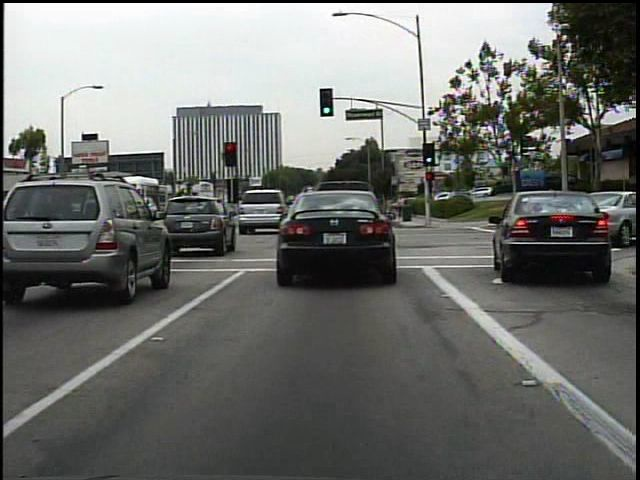person: (396, 194, 406, 220)
